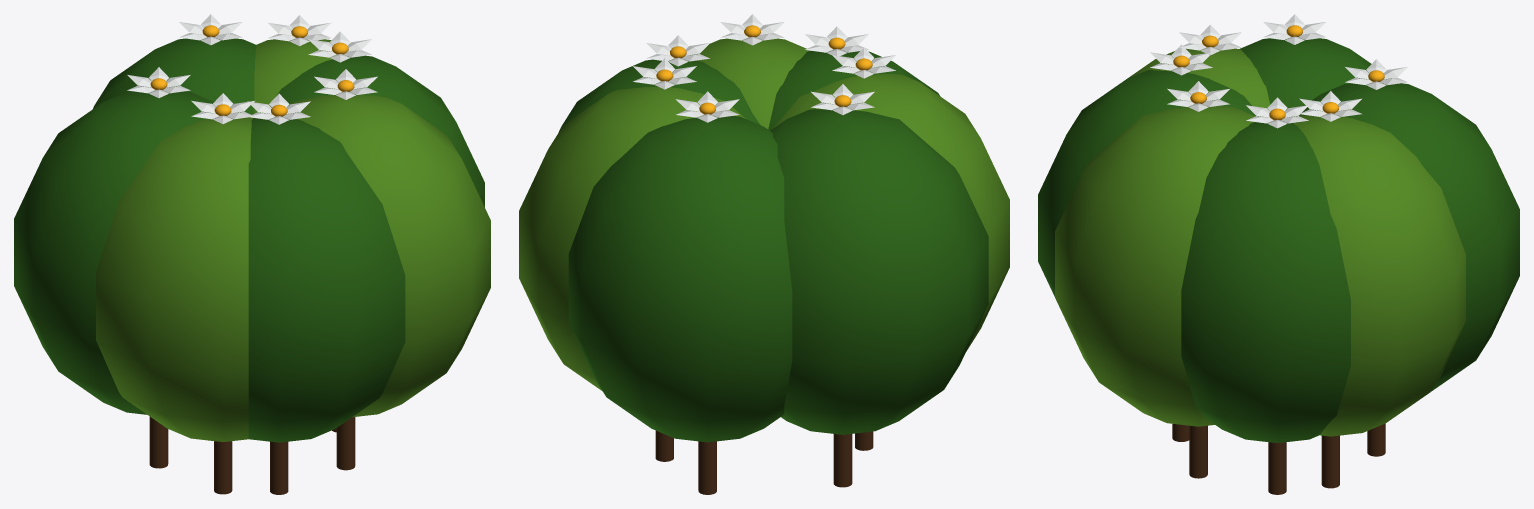
The model's file is Viragzo_cserje.obj.
3 views of the same model, side by side, from view 1: azimuth 30°, elevation 25°; view 2: azimuth 150°, elevation 25°; view 3: azimuth 270°, elevation 25° (orthographic).
Bounding box in the file's own units: 1.32 × 1.14 × 1.31.
